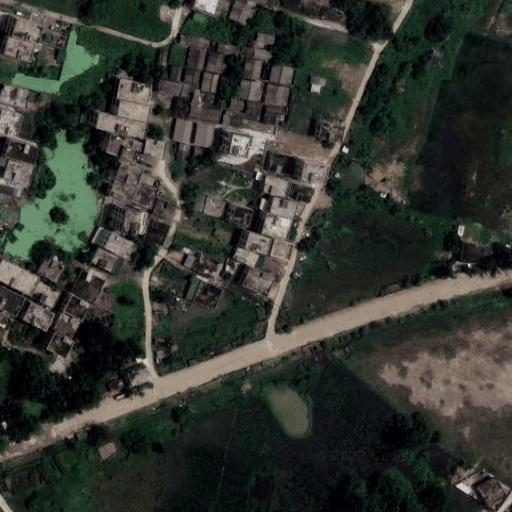building: (90, 111, 143, 135), (0, 256, 33, 292), (69, 267, 102, 299), (16, 298, 49, 328), (253, 211, 286, 239), (107, 135, 143, 160), (195, 191, 226, 219), (193, 282, 222, 310), (479, 477, 506, 507), (115, 78, 148, 102), (240, 266, 269, 293), (110, 97, 145, 119), (2, 138, 34, 162), (98, 229, 127, 255), (29, 280, 58, 306), (131, 183, 158, 210), (6, 16, 37, 39), (58, 291, 85, 317), (91, 436, 118, 462), (4, 161, 33, 185), (0, 84, 30, 107), (107, 178, 134, 202), (292, 157, 320, 180), (40, 328, 65, 353), (112, 162, 139, 185), (92, 249, 117, 273), (49, 311, 74, 335), (110, 204, 133, 230), (267, 197, 295, 218), (146, 221, 169, 246), (193, 254, 218, 277), (261, 175, 288, 196), (231, 246, 258, 267), (220, 130, 243, 154), (288, 183, 314, 204), (190, 105, 220, 123), (239, 231, 263, 252), (230, 2, 252, 24), (267, 238, 289, 260), (265, 85, 288, 106), (265, 151, 289, 171), (315, 120, 340, 139), (171, 140, 190, 165), (143, 138, 166, 158), (154, 199, 176, 219), (463, 243, 485, 263), (0, 285, 16, 312), (186, 49, 206, 70), (173, 120, 193, 141), (243, 58, 262, 79), (195, 124, 213, 146), (158, 80, 182, 96), (207, 53, 226, 73), (126, 362, 147, 380), (225, 204, 244, 223), (241, 80, 259, 100), (185, 279, 201, 301), (279, 67, 296, 87), (174, 98, 190, 119), (258, 256, 279, 272), (189, 0, 214, 13), (202, 73, 219, 91), (217, 44, 240, 55), (253, 50, 273, 62), (270, 65, 282, 85), (256, 33, 274, 46), (191, 36, 208, 49), (186, 70, 200, 85), (77, 430, 92, 444), (230, 99, 246, 112), (92, 227, 104, 244), (309, 75, 326, 86), (184, 255, 197, 269), (170, 67, 182, 82), (179, 34, 193, 46), (109, 379, 123, 391), (246, 101, 259, 113), (158, 52, 167, 68), (431, 48, 445, 58), (266, 106, 276, 118), (247, 49, 254, 59), (0, 423, 4, 434)
